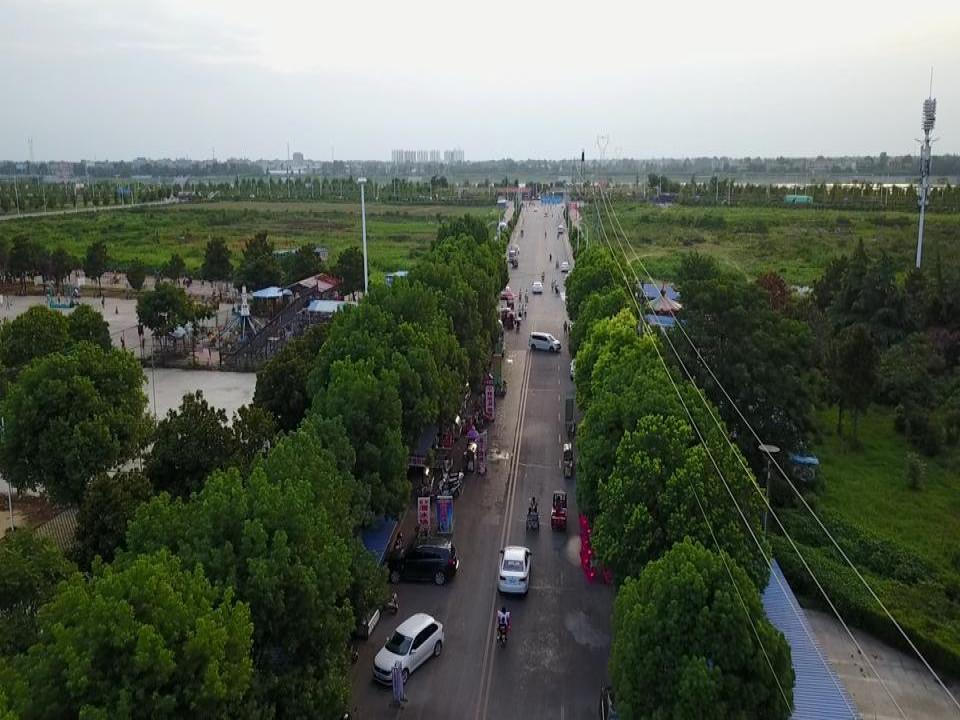car: (371, 612, 444, 685), (382, 536, 459, 587), (498, 541, 533, 596), (523, 330, 563, 358), (569, 352, 589, 380), (497, 281, 512, 300), (562, 273, 572, 291), (531, 280, 543, 293), (560, 261, 569, 272), (512, 243, 520, 252), (558, 223, 564, 233), (541, 211, 549, 217), (532, 207, 537, 212)
truck: (507, 246, 518, 262)
